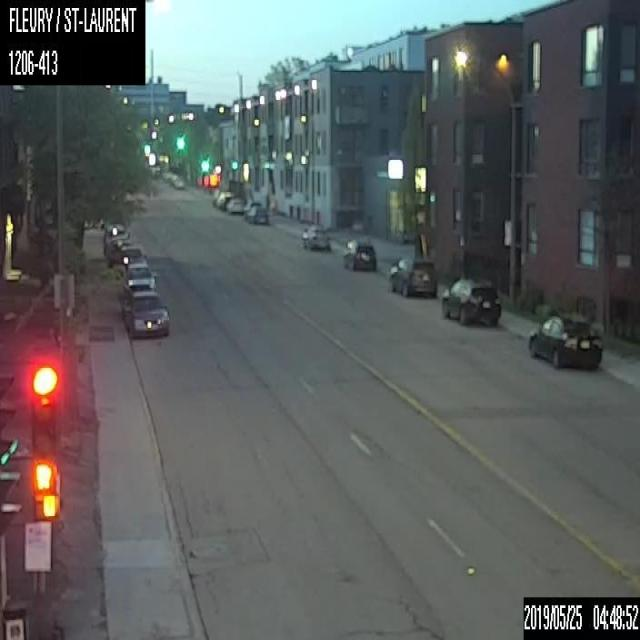vehicle: (527, 312, 604, 369), (440, 273, 502, 327), (387, 254, 438, 298), (123, 291, 169, 336), (341, 240, 375, 272), (123, 262, 156, 292), (299, 220, 328, 251), (117, 244, 147, 267), (246, 204, 268, 223), (216, 190, 234, 209), (224, 197, 244, 213)
